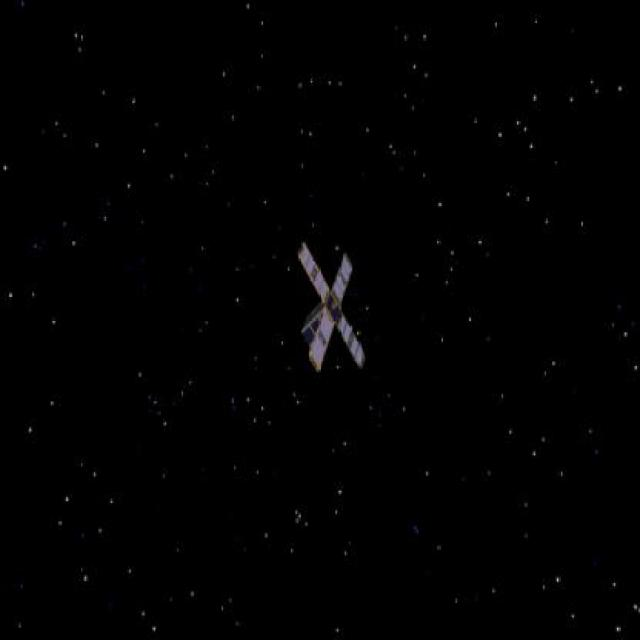satellite: (283, 238, 371, 392)
